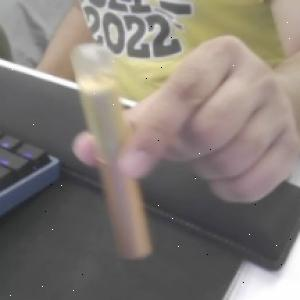Golden-E-Ciggirate: (67, 44, 156, 262)
